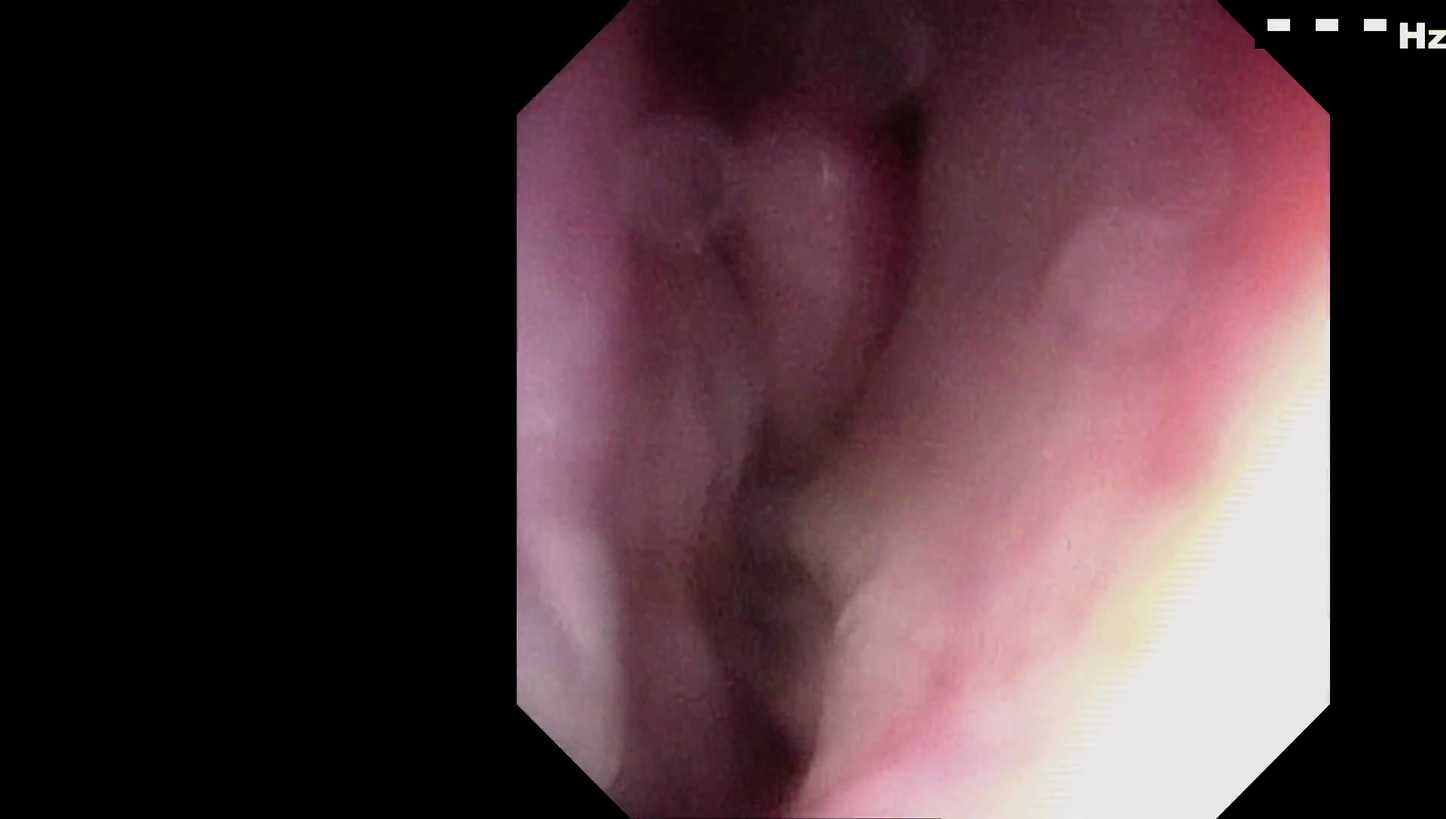close_wall: (940, 342, 1284, 760)
next: (638, 376, 845, 803), (626, 2, 803, 162), (837, 69, 935, 203)
